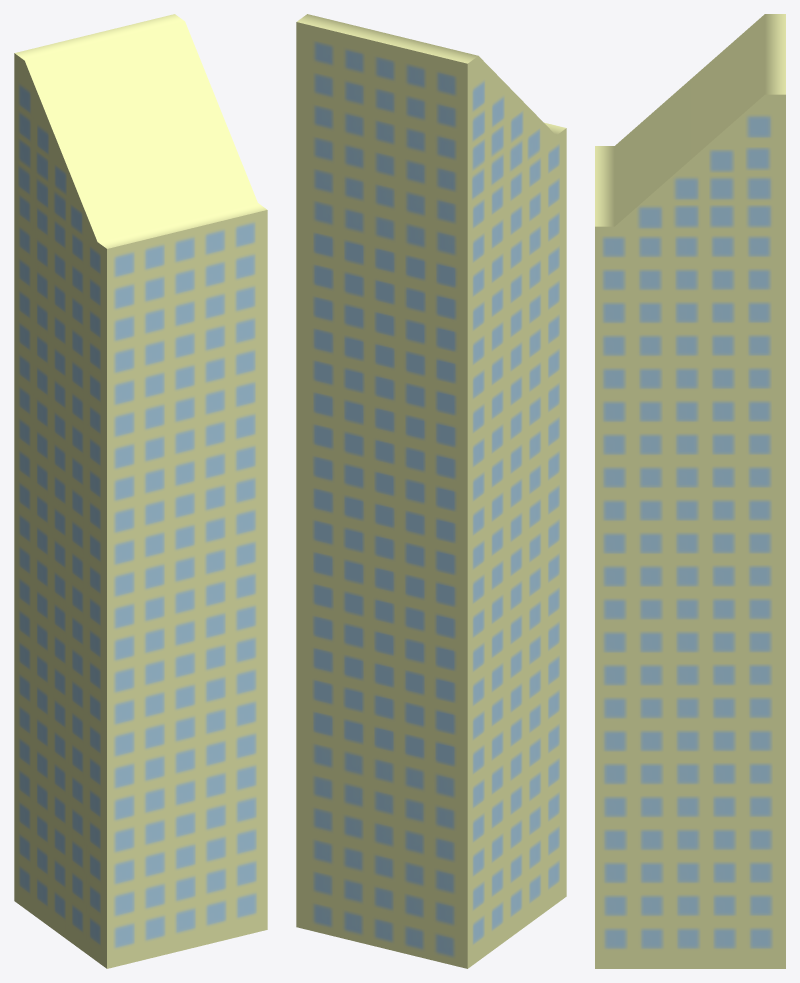
Rendered from cWhole.fbx.
The picture shows the model from 3 angles, left to right: view 1: azimuth 30°, elevation 25°; view 2: azimuth 150°, elevation 25°; view 3: azimuth 270°, elevation 25°; orthographic projection. The views are drawn at different scales.
Visible parts, largest first — view 1: Citigroup; view 2: Citigroup; view 3: Citigroup.
Part boxes in pixels (<box>): Citigroup: <box>14,14,267,968</box>; Citigroup: <box>296,14,566,968</box>; Citigroup: <box>595,14,785,968</box>.
Size of the model in its own units: 0.0917 by 0.463 by 0.0917.
1 material, 1 textured.
